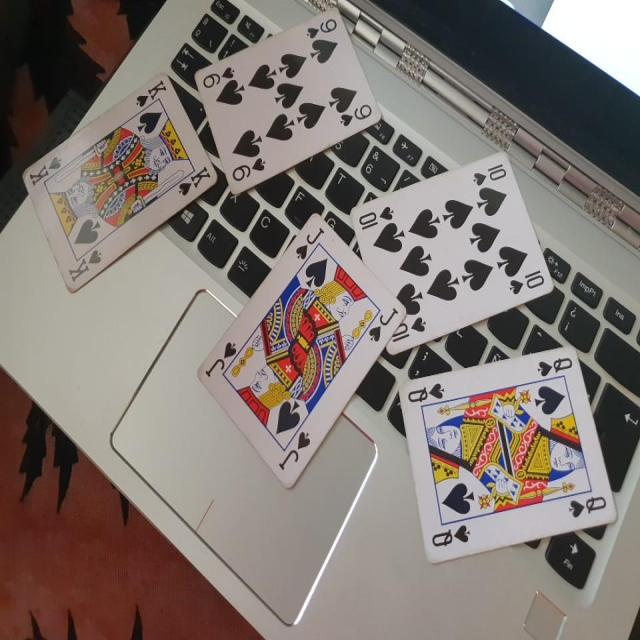10 Spades: (343, 141, 554, 362)
9 Spades: (185, 3, 380, 195)
J Spades: (199, 209, 410, 494)
K Spades: (16, 65, 217, 298)
Q Spades: (405, 340, 620, 570)
